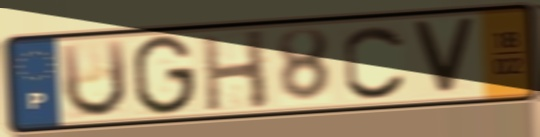8: (274, 26, 334, 107)
C: (340, 22, 410, 102)
G: (131, 32, 198, 118)
H: (198, 27, 272, 114)
U: (57, 37, 131, 122)
V: (407, 16, 480, 98)
